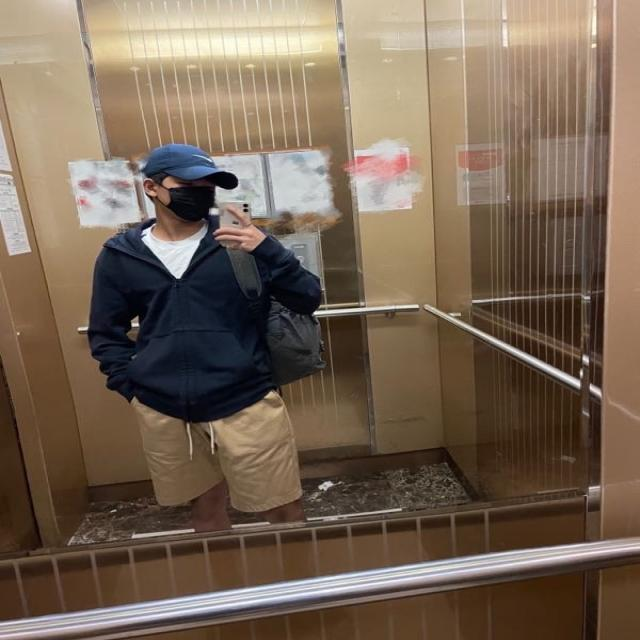shortpants: (128, 393, 303, 514)
zipup: (88, 219, 324, 423)
